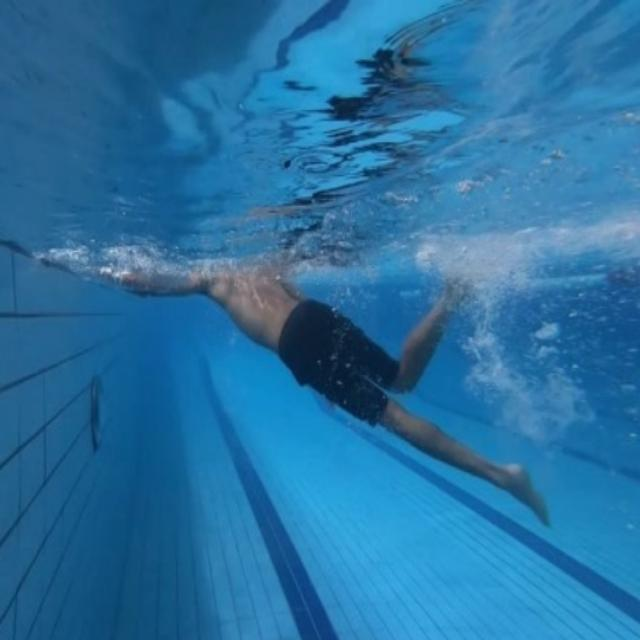Swimming: (103, 265, 552, 531)
